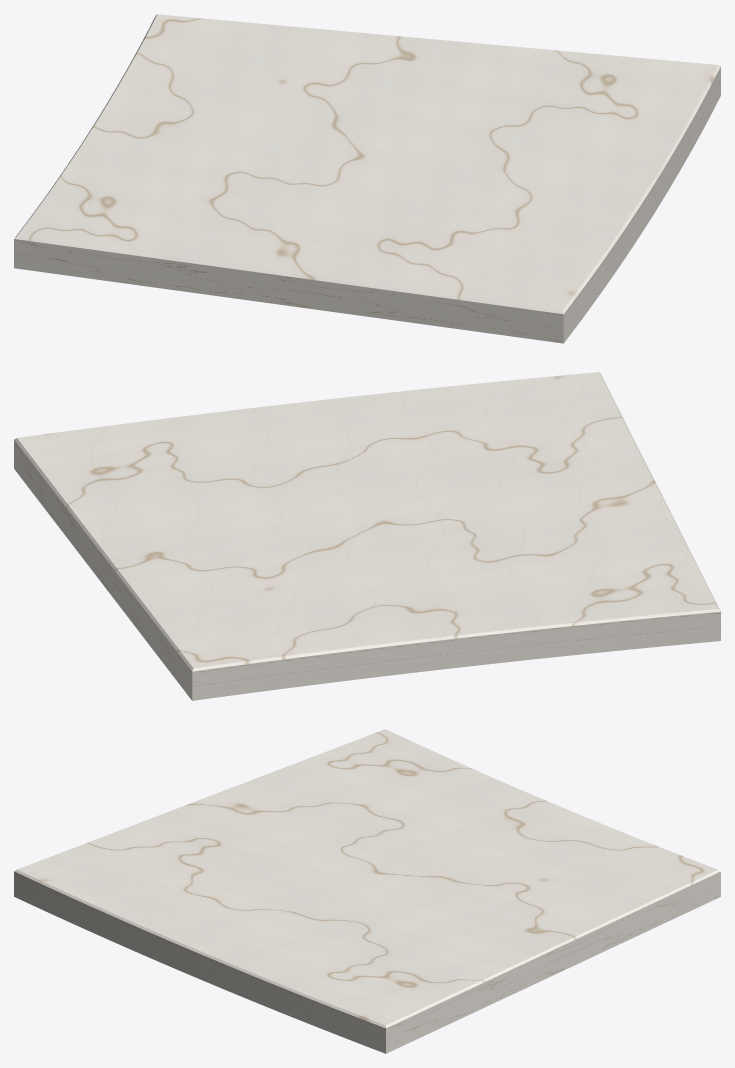
Rendered from f01-marble-cream-radial-wedge.glb.
3 views of the same model, one above another, from view 1: azimuth 30°, elevation 25°; view 2: azimuth 150°, elevation 25°; view 3: azimuth 270°, elevation 25° (orthographic). The views are drawn at different scales.
Parts seen in each view (by area): view 1: S7-FLOOR-F01-F :: premium 1m curved cream marble; view 2: S7-FLOOR-F01-F :: premium 1m curved cream marble; view 3: S7-FLOOR-F01-F :: premium 1m curved cream marble.
Boxes of the visible parts, x1,y1,x2,y2 form: S7-FLOOR-F01-F :: premium 1m curved cream marble: (14, 14, 720, 343); S7-FLOOR-F01-F :: premium 1m curved cream marble: (14, 372, 720, 700); S7-FLOOR-F01-F :: premium 1m curved cream marble: (14, 729, 720, 1053).
Size of the model in its own units: 1.41 by 0.06 by 1.41.
Materials: 1 (1 with a texture image).
